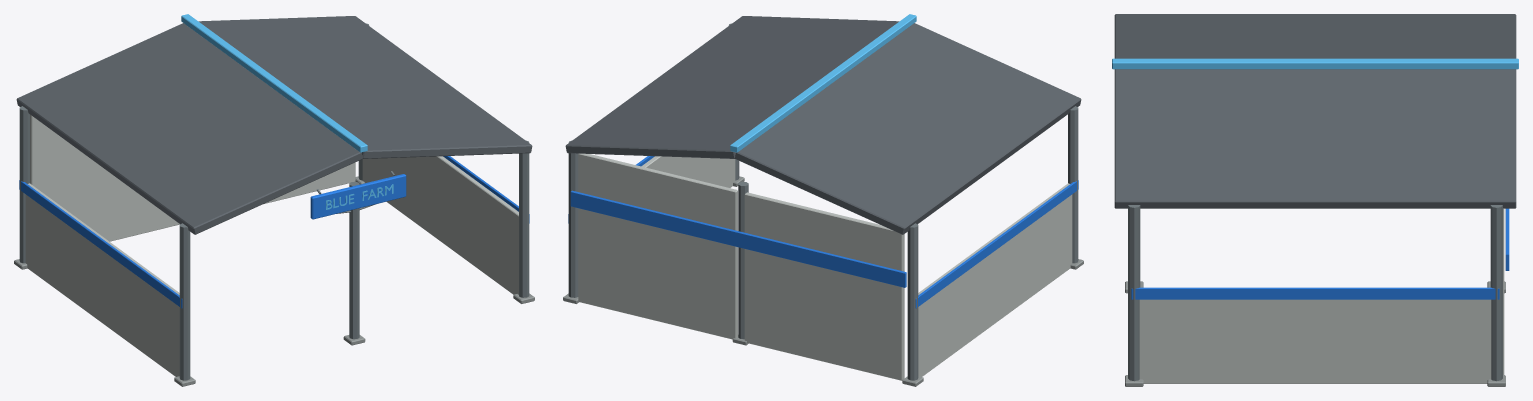
The model's file is BlueGarage.glb.
3 renders of one model, left to right at view 1: azimuth 30°, elevation 25°; view 2: azimuth 150°, elevation 25°; view 3: azimuth 270°, elevation 25°, orthographic. The views are drawn at different scales.
Visible parts, largest first — view 1: FTF_Building_FarmMachineGarage_Blue_TwoBay_12x10m_Mesh; view 2: FTF_Building_FarmMachineGarage_Blue_TwoBay_12x10m_Mesh; view 3: FTF_Building_FarmMachineGarage_Blue_TwoBay_12x10m_Mesh.
Part boxes in pixels (x1,y1,x2,y2): FTF_Building_FarmMachineGarage_Blue_TwoBay_12x10m_Mesh: (14, 14, 534, 386); FTF_Building_FarmMachineGarage_Blue_TwoBay_12x10m_Mesh: (563, 14, 1083, 386); FTF_Building_FarmMachineGarage_Blue_TwoBay_12x10m_Mesh: (1112, 14, 1518, 386).
Bounding box in the file's own units: 11.98 × 6.56 × 10.55.
